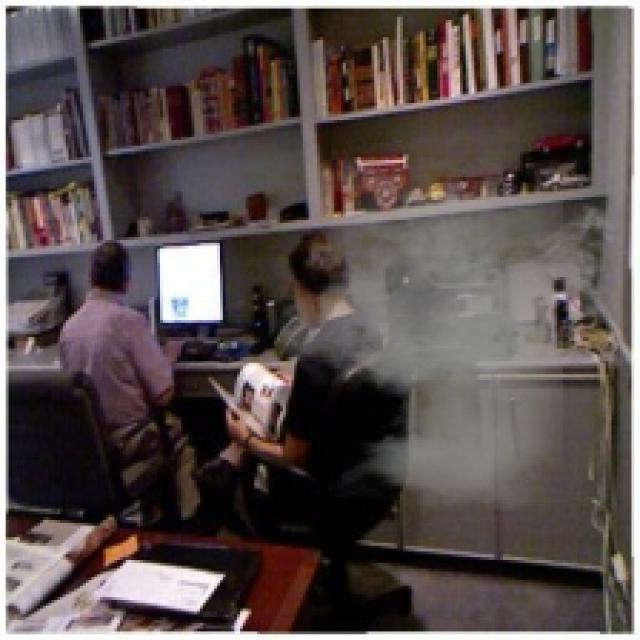Smoke: (262, 157, 628, 512)
